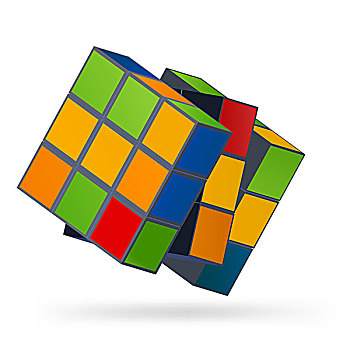cube: (15, 44, 306, 297)
